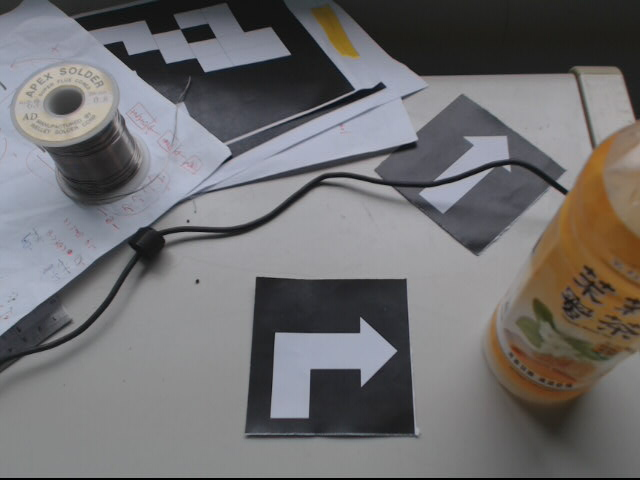right: (244, 275, 414, 435)
